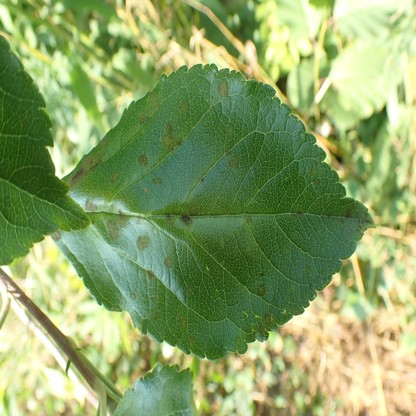scab: (67, 136, 110, 188), (327, 206, 373, 232), (106, 209, 128, 242), (141, 92, 161, 123), (160, 122, 181, 150), (243, 229, 256, 255), (311, 161, 322, 186), (260, 313, 271, 337), (218, 77, 228, 100), (137, 236, 151, 251), (181, 214, 193, 230), (86, 198, 98, 213), (179, 311, 187, 332), (50, 229, 63, 241), (138, 153, 148, 168), (178, 100, 189, 113), (229, 155, 239, 168), (163, 256, 173, 268), (257, 284, 266, 295), (111, 171, 119, 183), (135, 216, 144, 226), (188, 333, 194, 348), (185, 284, 194, 294), (147, 268, 155, 279), (245, 215, 254, 224), (165, 213, 173, 222), (152, 177, 162, 184), (227, 124, 234, 134), (294, 208, 303, 215), (130, 291, 136, 301), (153, 312, 159, 320)
